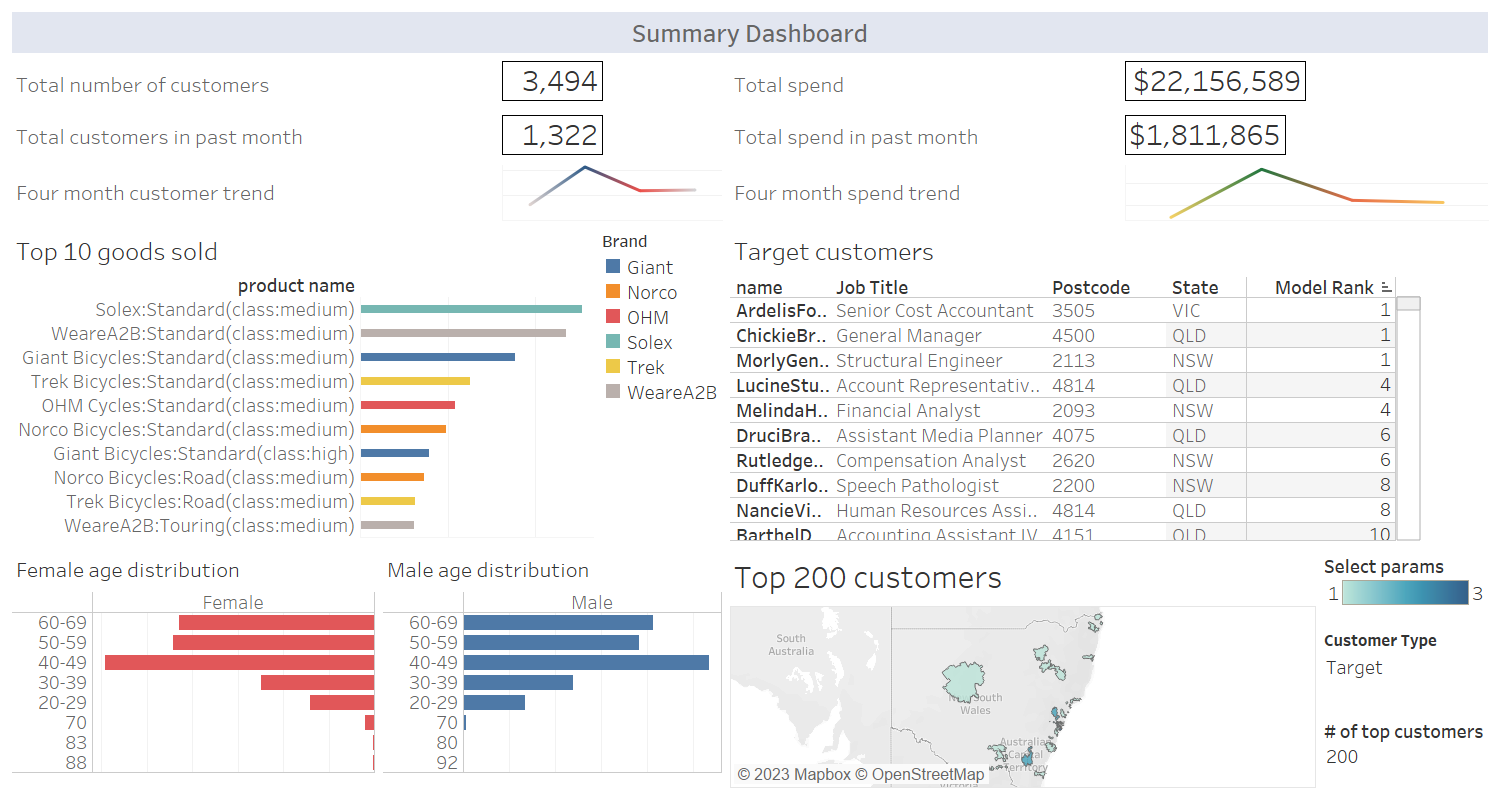

What the dashboard file says about the page in this screenshot:
{"tool":"tableau","page":{"name":"Summary","canvas":[1000,800],"ordinal":0},"visuals":[{"type":"text","box":[8,8,984,49]},{"type":"image","param":"C:/Users/Chris/Desktop/BA/KPMG Data Analytics/LOGO.png","box":[208,8,286,55]},{"type":"text","box":[8,57,325,61]},{"type":"worksheet","title":"Total Customer","mark":"Automatic","box":[333,57,155,61]},{"type":"text","box":[488,57,258,61]},{"type":"worksheet","title":"Total spend","mark":"Automatic","box":[746,57,246,61]},{"type":"text","box":[8,118,325,69]},{"type":"worksheet","title":"Customers in past month","mark":"Automatic","box":[333,118,155,69]},{"type":"text","box":[488,118,258,69]},{"type":"worksheet","title":"Total Spend in past month","mark":"Automatic","box":[746,118,246,69]},{"type":"text","box":[8,187,325,53]},{"type":"worksheet","title":"Customer trend","mark":"Automatic","rows":["customer_id"],"cols":["transaction_date"],"box":[333,187,155,53]},{"type":"text","box":[488,187,258,53]},{"type":"worksheet","title":"Total spend trend","mark":"Automatic","rows":["list_price"],"cols":["transaction_date"],"box":[746,187,246,53]},{"type":"worksheet","title":"Top 10 goods sold","mark":"Automatic","rows":["Calculation_477381627502694400"],"cols":["Transactions_22DF01094BFF45BCAF687EF187347EE9"],"box":[8,240,480,234]},{"type":"worksheet","title":"Target customers","mark":"Automatic","rows":["Calculation_477381627515121666","job_title","address","postcode","state"],"cols":["Calculation_477381627515604995"],"box":[488,240,504,305]},{"type":"legend","title":"Top 10 goods sold","param":"[federated.01cqxdg1aunt0g16pqto7182hu24].[none:brand:nk]","box":[8,474,480,137]},{"type":"worksheet","title":"Top 200 customers","mark":"Multipolygon","box":[488,545,344,247]},{"type":"legend","title":"Top 200 customers","param":"[federated.1nid12v1kymjoa18l7wz21xwm2fh].[usr:Calculation_477381627518009349:qk]","box":[832,545,160,81]},{"type":"worksheet","title":"Female age distribution","mark":"Automatic","box":[8,611,246,181]},{"type":"worksheet","title":"Male age distribution","mark":"Automatic","box":[254,611,234,181]},{"type":"parameter","param":"[Parameters].[Parameter 2]","box":[832,626,160,60]},{"type":"parameter","param":"[Parameters].[Parameter 1]","box":[832,686,160,83]}]}

Visuals, with their boxes on the page's 1000x800 design canvas (x1, y1, x2, y2). These are canvas units, not pixel positions in the 1500x800 screenshot, which may show the page scaled, cropped or inside an application window:
text: {"x1": 8, "y1": 8, "x2": 992, "y2": 57}
image: {"x1": 208, "y1": 8, "x2": 494, "y2": 63}
text: {"x1": 8, "y1": 57, "x2": 333, "y2": 118}
"Total Customer" worksheet: {"x1": 333, "y1": 57, "x2": 488, "y2": 118}
text: {"x1": 488, "y1": 57, "x2": 746, "y2": 118}
"Total spend" worksheet: {"x1": 746, "y1": 57, "x2": 992, "y2": 118}
text: {"x1": 8, "y1": 118, "x2": 333, "y2": 187}
"Customers in past month" worksheet: {"x1": 333, "y1": 118, "x2": 488, "y2": 187}
text: {"x1": 488, "y1": 118, "x2": 746, "y2": 187}
"Total Spend in past month" worksheet: {"x1": 746, "y1": 118, "x2": 992, "y2": 187}
text: {"x1": 8, "y1": 187, "x2": 333, "y2": 240}
"Customer trend" worksheet: {"x1": 333, "y1": 187, "x2": 488, "y2": 240}
text: {"x1": 488, "y1": 187, "x2": 746, "y2": 240}
"Total spend trend" worksheet: {"x1": 746, "y1": 187, "x2": 992, "y2": 240}
"Top 10 goods sold" worksheet: {"x1": 8, "y1": 240, "x2": 488, "y2": 474}
"Target customers" worksheet: {"x1": 488, "y1": 240, "x2": 992, "y2": 545}
"Top 10 goods sold" legend: {"x1": 8, "y1": 474, "x2": 488, "y2": 611}
"Top 200 customers" worksheet (Multipolygon marks): {"x1": 488, "y1": 545, "x2": 832, "y2": 792}
"Top 200 customers" legend: {"x1": 832, "y1": 545, "x2": 992, "y2": 626}
"Female age distribution" worksheet: {"x1": 8, "y1": 611, "x2": 254, "y2": 792}
"Male age distribution" worksheet: {"x1": 254, "y1": 611, "x2": 488, "y2": 792}
parameter: {"x1": 832, "y1": 626, "x2": 992, "y2": 686}
parameter: {"x1": 832, "y1": 686, "x2": 992, "y2": 769}
